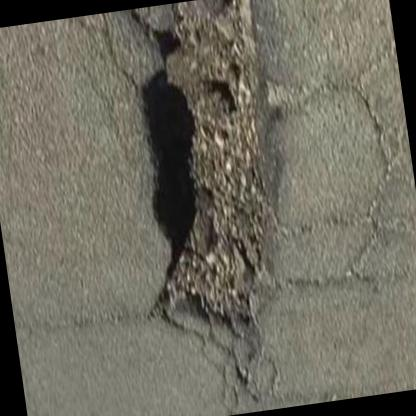pothole: (104, 0, 303, 359)
